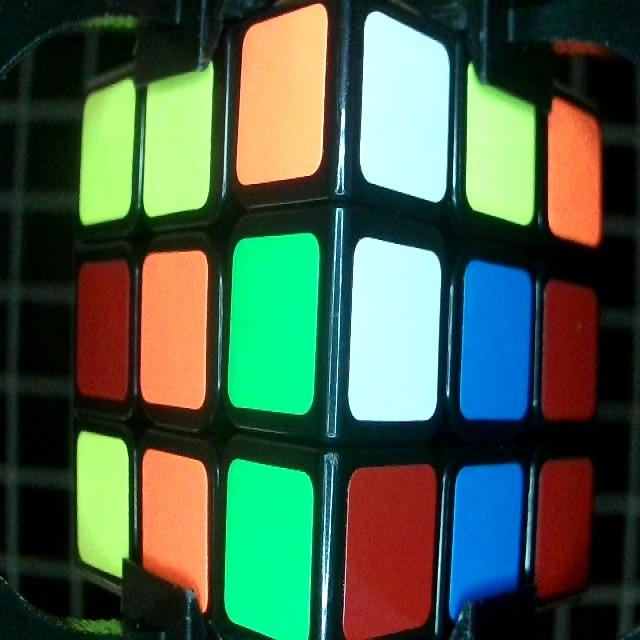b: (463, 264, 532, 420), (458, 472, 519, 616)
g: (226, 459, 314, 640), (234, 230, 318, 417)
o: (241, 12, 323, 180), (143, 250, 207, 408), (145, 450, 208, 610), (549, 95, 604, 244)
r: (346, 469, 436, 639), (535, 463, 593, 592), (77, 265, 129, 404), (545, 282, 595, 417)
w: (360, 6, 449, 198), (351, 251, 440, 419)
y: (466, 61, 535, 220), (143, 61, 211, 208), (80, 84, 131, 220), (80, 436, 129, 572)
